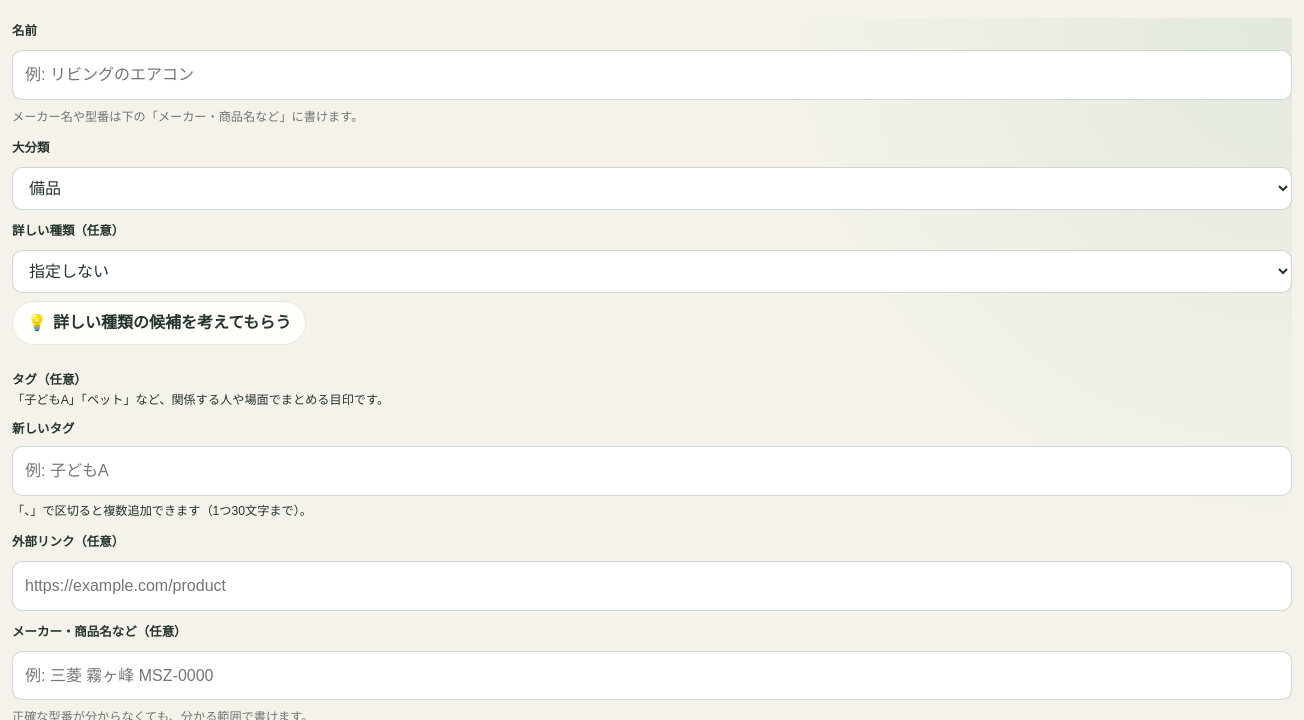
Test: 詳しい種類のAI提案(Issue #332) › 候補を選ぶと自由入力の詳しい種類へ反映し、提案IDを一緒に送る
Click the button "💡 詳しい種類の候補を考えてもらう": click(159, 323) x1=12 y1=301 x2=306 y2=345
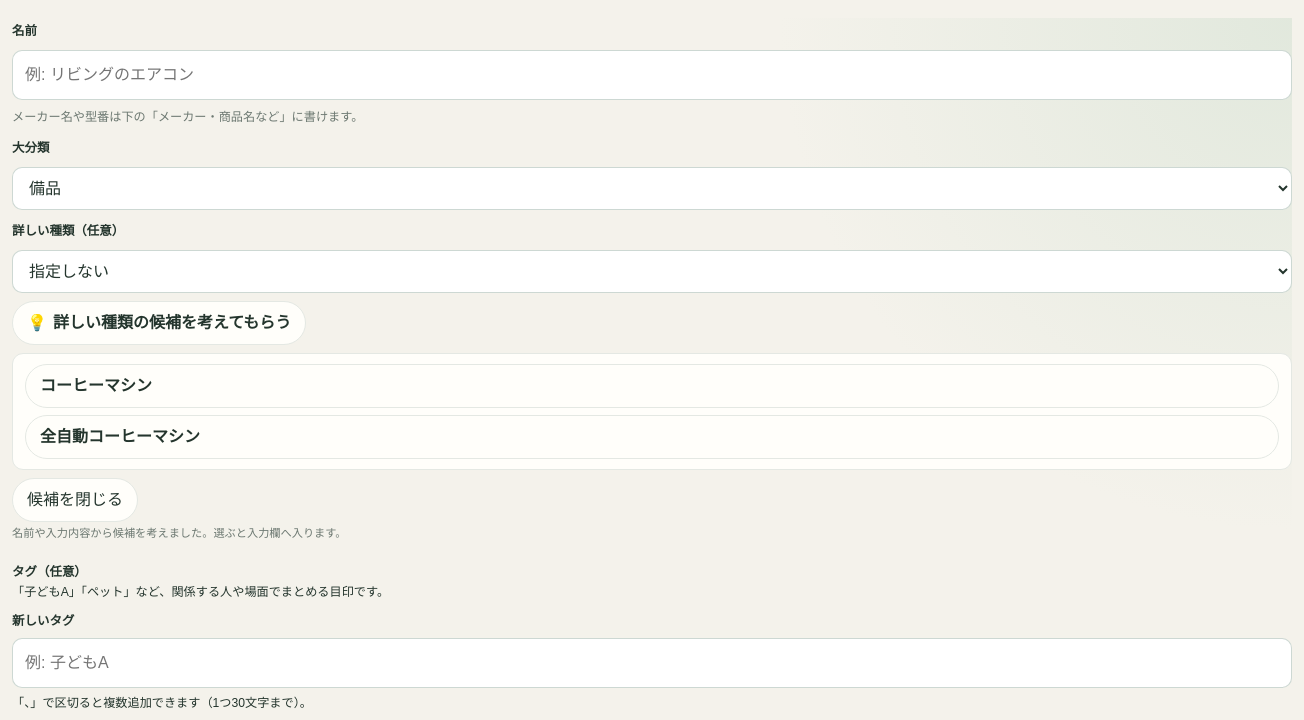
Expected: the element named "itemTypeSuggestionId" holds "suggestion-1", x1=12 y1=301 x2=1292 y2=545
Now the element named "考えた詳しい種類の候補から選ぶ" is shown, box x1=12 y1=353 x2=1292 y2=470
Click the button "全自動コーヒーマシン": click(120, 437) x1=25 y1=415 x2=1279 y2=459
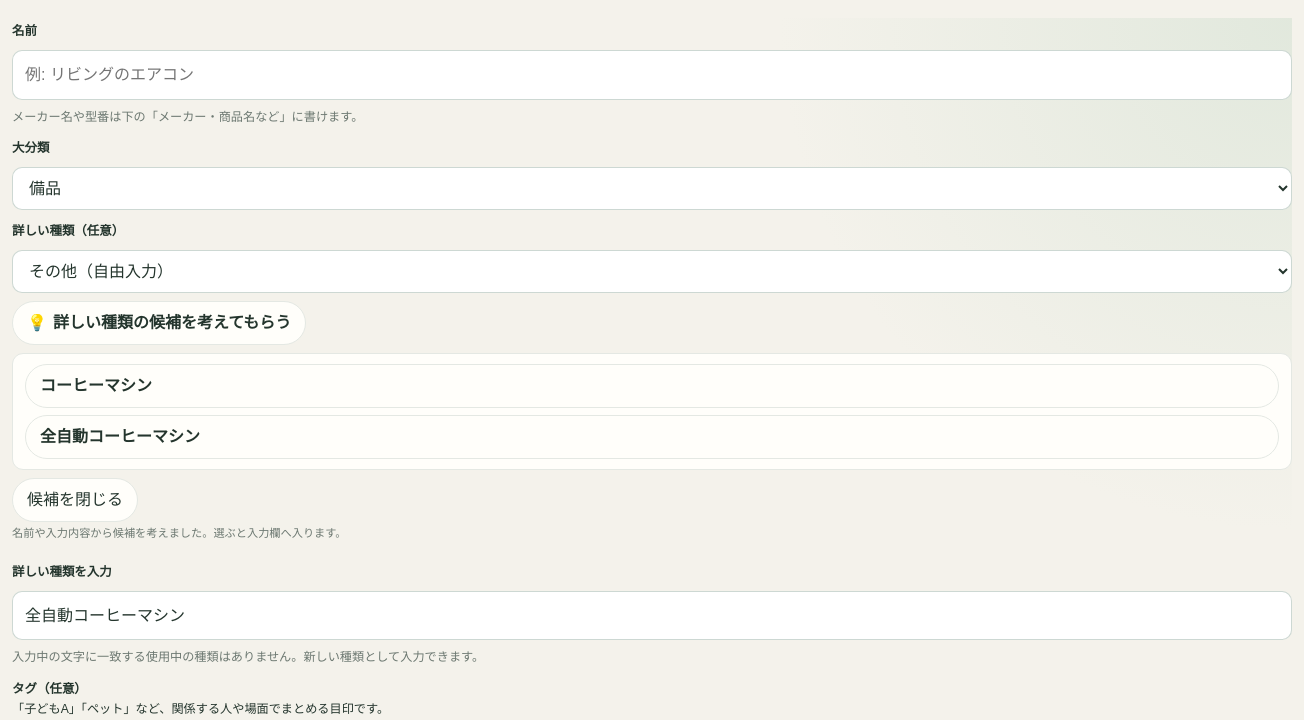
Expected: the element named "itemTypeSuggestionId" holds "suggestion-1", x1=12 y1=301 x2=1292 y2=545
Now the dropdown labelled "詳しい種類（任意）" shows "その他（自由入力）", box x1=12 y1=250 x2=1292 y2=293
Now the field labelled "詳しい種類を入力" holds "全自動コーヒーマシン", box x1=12 y1=591 x2=1292 y2=640
